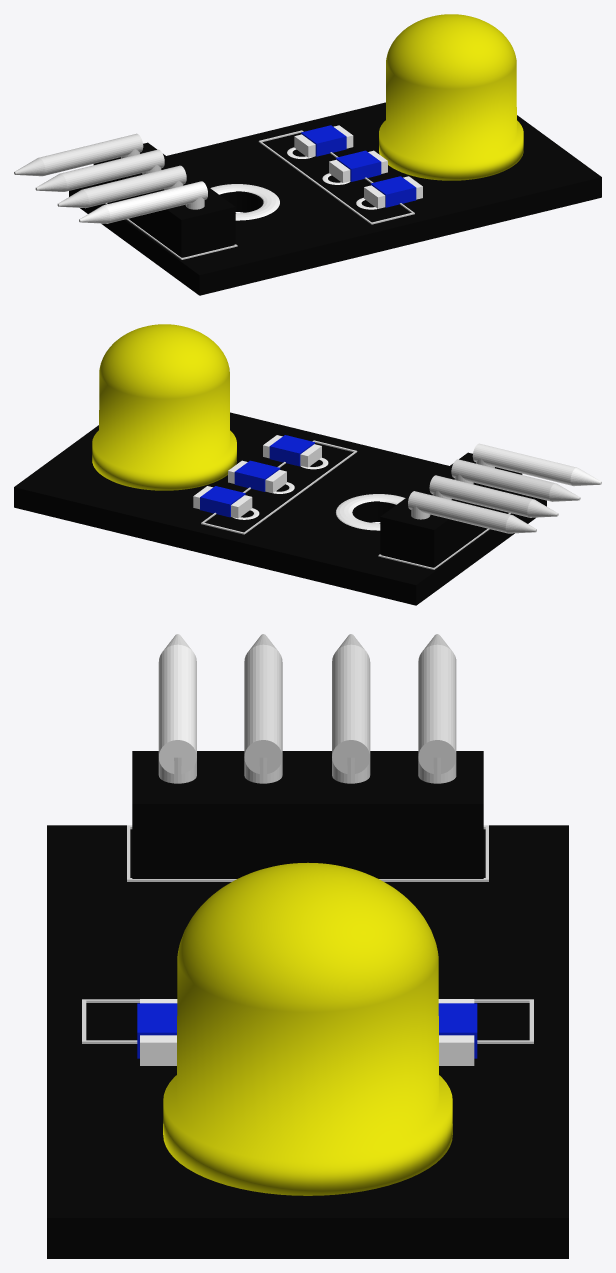
Rendered from Led RGB.fbx.
3 renders of one model, top to bottom at view 1: azimuth 30°, elevation 25°; view 2: azimuth 150°, elevation 25°; view 3: azimuth 270°, elevation 25°, orthographic. The views are drawn at different scales.
Visible parts, largest first — view 1: Cube, Sphere.001, Cubo.001, Cilindro.015, Cilindro.011, Cilindro.013, Cilindro.009, Rosca, Cubo.008, Cubo.004, Cubo.006, Cubo.002 (+3 smaller); view 2: Cube, Sphere.001, Cubo.001, Cilindro.011, Cilindro.013, Cilindro.009, Cilindro.015, Rosca, Cubo.004, Cubo.008, Cubo.006, Cubo.002 (+3 smaller); view 3: Cube, Sphere.001, Cubo.001, Cilindro.009, Cilindro.013, Cilindro.011, Cilindro.015, Cubo.008, Cubo.006, Cubo.007, Cubo.005, Cubo.002 (+1 smaller).
Part boxes in pixels (box(x1,y1,x2,y2)): Cube: box(69, 102, 601, 295); Sphere.001: box(379, 14, 523, 180); Cubo.001: box(93, 142, 235, 257); Cilindro.015: box(14, 133, 143, 176); Cilindro.011: box(57, 165, 186, 208); Cilindro.013: box(35, 149, 164, 191); Cilindro.009: box(79, 181, 207, 223); Rosca: box(210, 184, 279, 220); Cubo.008: box(370, 176, 416, 207); Cubo.004: box(335, 150, 381, 181); Cubo.006: box(301, 125, 346, 156); Cubo.002: box(258, 130, 414, 224); Cube: box(14, 412, 546, 605); Sphere.001: box(92, 324, 236, 490); Cubo.001: box(380, 452, 522, 567); Cilindro.011: box(451, 459, 580, 501); Cilindro.013: box(429, 475, 558, 517); Cilindro.009: box(472, 443, 601, 486); Cilindro.015: box(408, 491, 536, 533); Rosca: box(336, 494, 405, 530); Cubo.004: box(234, 460, 280, 491); Cubo.008: box(269, 435, 314, 466); Cubo.006: box(200, 486, 245, 517); Cubo.002: box(201, 440, 357, 534); Cube: box(47, 825, 568, 1258); Sphere.001: box(163, 862, 452, 1195); Cubo.001: box(132, 751, 483, 878); Cilindro.009: box(158, 634, 196, 773); Cilindro.013: box(332, 634, 370, 773); Cilindro.011: box(244, 634, 282, 773); Cilindro.015: box(418, 634, 456, 773); Cubo.008: box(137, 1003, 177, 1058); Cubo.006: box(438, 1003, 477, 1058); Cubo.007: box(140, 999, 177, 1065); Cubo.005: box(438, 999, 474, 1065); Cubo.002: box(82, 999, 533, 1043).
Size of the model in its own units: 860 by 249 by 398.
